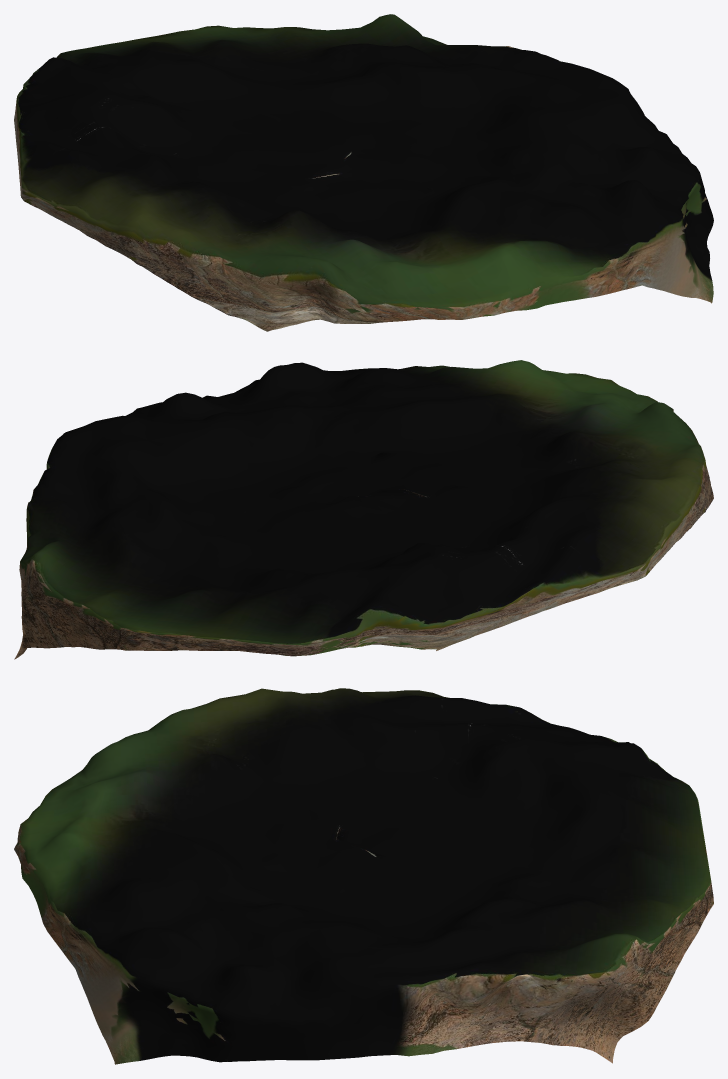
File: sonhaligaliba.glb
3 views of the same model, one above another, from view 1: azimuth 30°, elevation 25°; view 2: azimuth 150°, elevation 25°; view 3: azimuth 270°, elevation 25° (orthographic). The views are drawn at different scales.
Visible parts, largest first — view 1: Object_2; view 2: Object_2; view 3: Object_2.
Part boxes in pixels (x1=…): Object_2: x1=14, y1=14, x2=713, y2=331; Object_2: x1=14, y1=360, x2=713, y2=659; Object_2: x1=14, y1=688, x2=713, y2=1064.
Bounding box in the file's own units: 40.13 × 10.38 × 41.79.
1 material, 1 textured.
